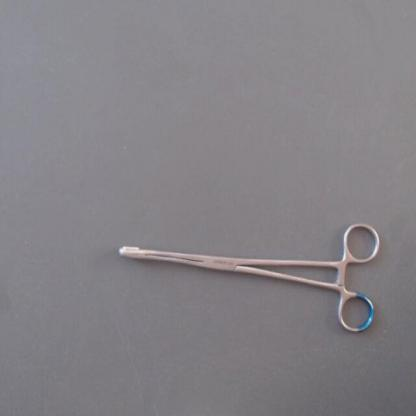Sponge Forceps: (114, 216, 385, 346)
